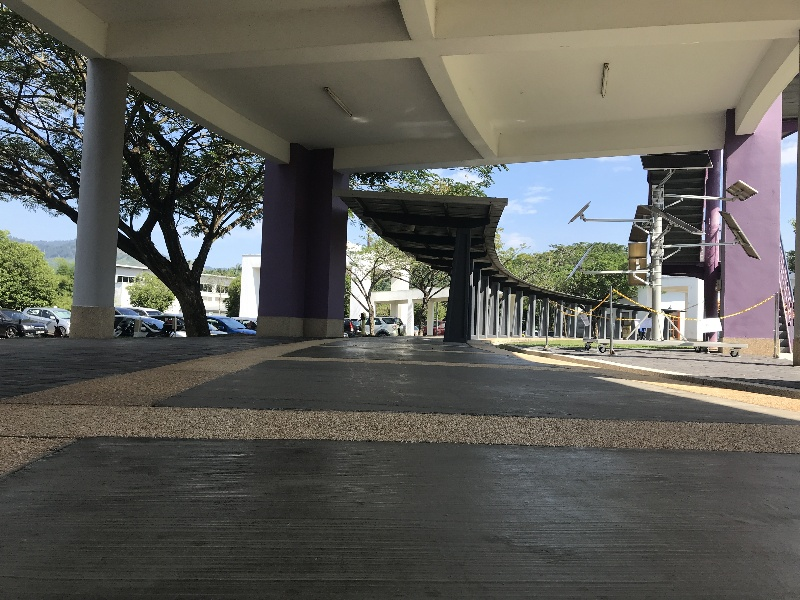Block D corridor: (8, 7, 794, 593)
pillar: (239, 124, 355, 343), (707, 82, 791, 376), (71, 49, 146, 338), (444, 218, 483, 346)
